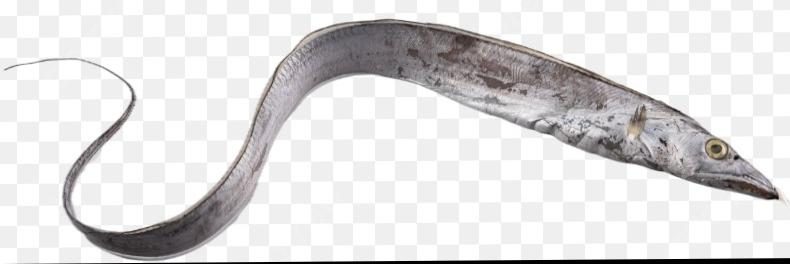fish: (4, 20, 783, 260)
